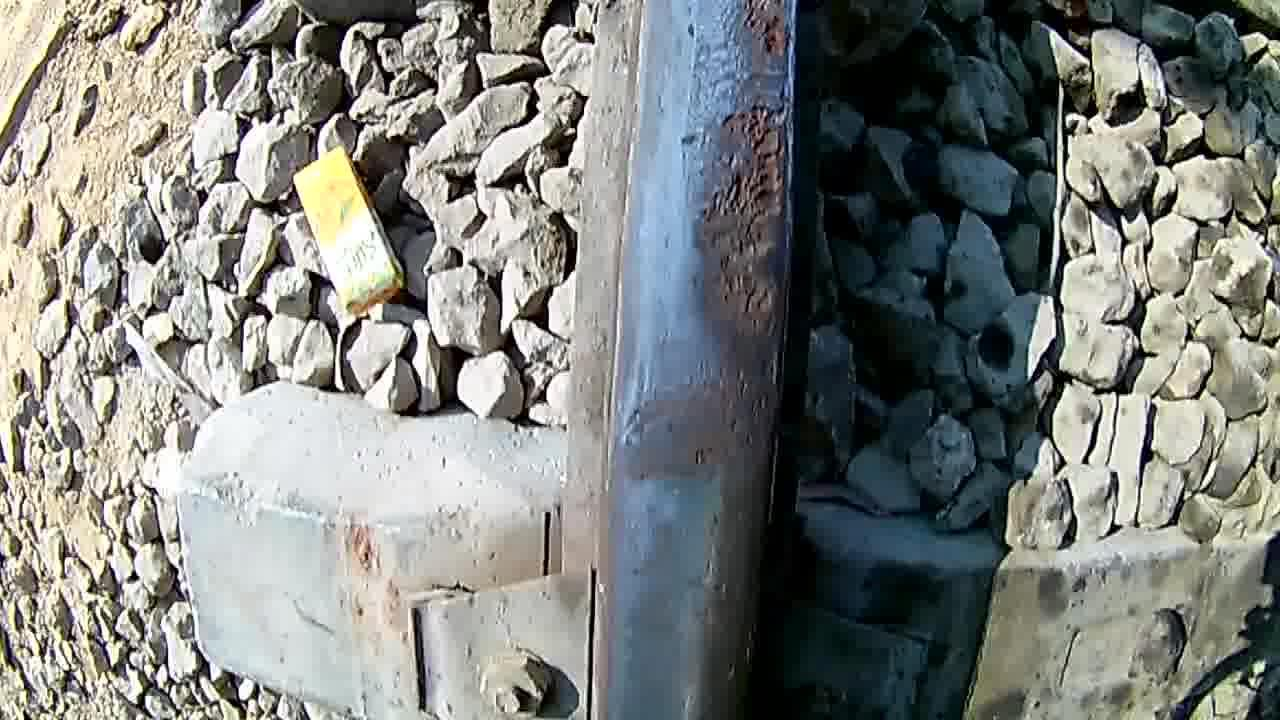crack: (610, 0, 804, 720)
